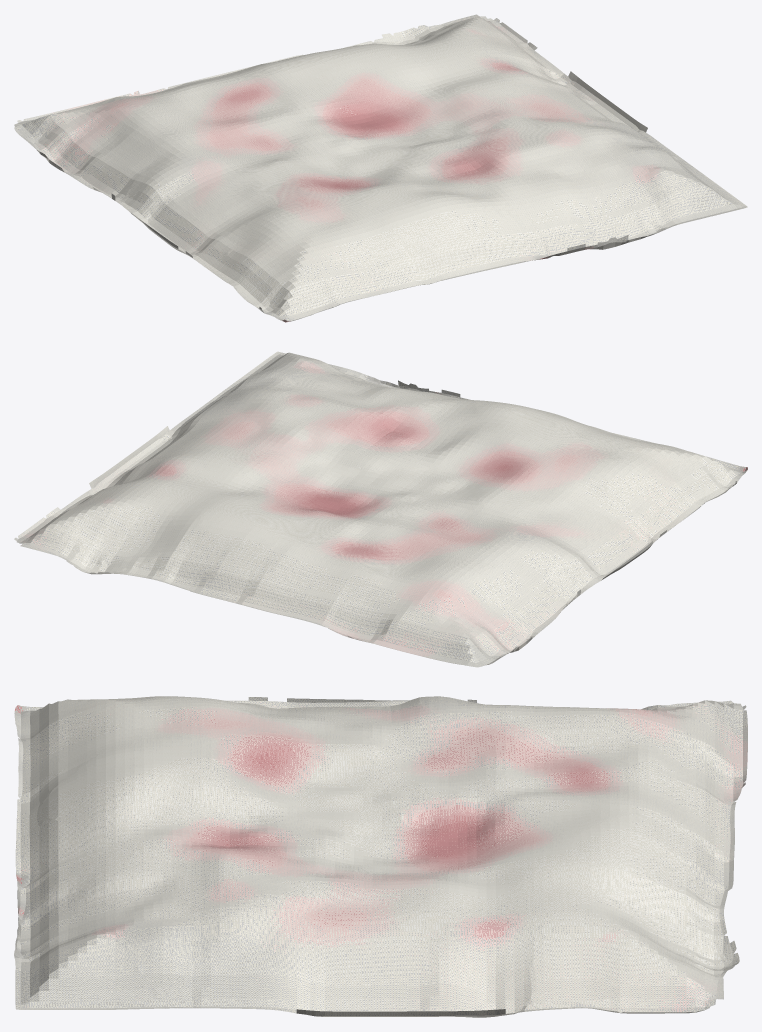
File: Ground.glb
The picture shows the model from 3 angles, top to bottom: view 1: azimuth 30°, elevation 25°; view 2: azimuth 150°, elevation 25°; view 3: azimuth 270°, elevation 25°; orthographic projection. The views are drawn at different scales.
Parts seen in each view (by area): view 1: Ground; view 2: Ground; view 3: Ground.
Part boxes in pixels (left/top/right/bottom): Ground: left=14, top=14, right=747, bottom=322; Ground: left=14, top=351, right=747, bottom=667; Ground: left=14, top=696, right=747, bottom=1017.
Size of the model in its own units: 712 by 76.71 by 704.
Materials: 1 (1 with a texture image).
